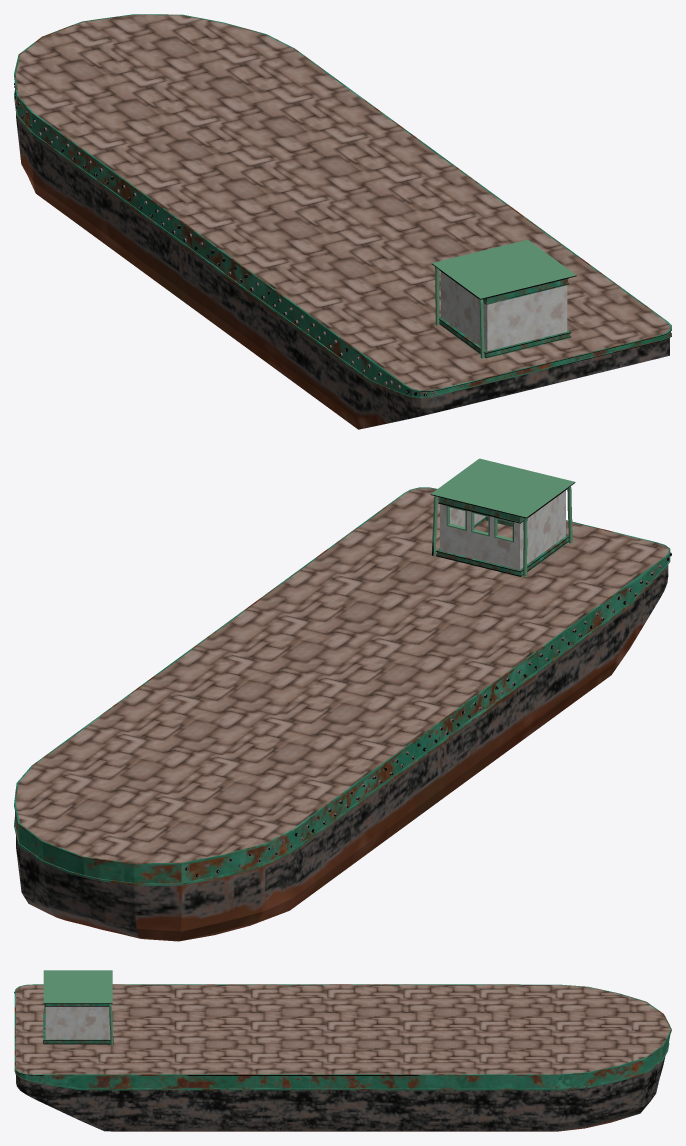
Rendered from Gamejam_BoatSimple_Small_wDiffusePass.glb.
The picture shows the model from 3 angles, top to bottom: view 1: azimuth 30°, elevation 25°; view 2: azimuth 150°, elevation 25°; view 3: azimuth 270°, elevation 25°; orthographic projection. The views are drawn at different scales.
Parts seen in each view (by area): view 1: Bake; view 2: Bake; view 3: Bake.
Part boxes in pixels (x1,y1,x2,y2): Bake: (14,14,671,429); Bake: (14,458,671,941); Bake: (14,970,671,1131).
Bounding box in the file's own units: 0.9718 × 0.555 × 2.98.
Materials: 1 (1 with a texture image).
